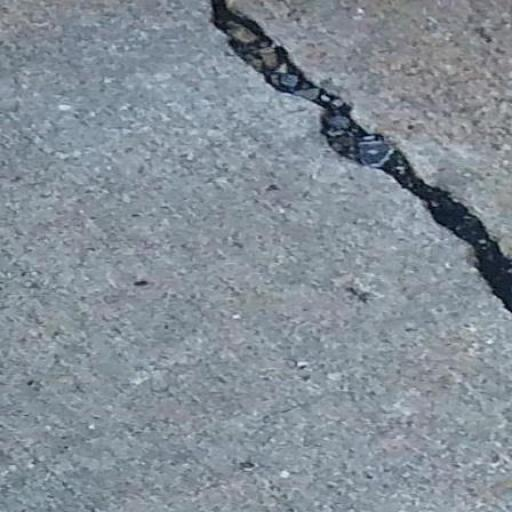spalling: (185, 1, 509, 324)
